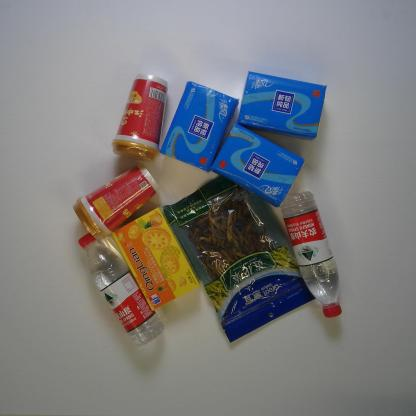Dessert: (112, 204, 200, 315)
Dried Food: (164, 174, 318, 346)
Drink: (78, 230, 166, 348), (278, 189, 344, 320)
Instant Drink: (69, 163, 160, 241), (111, 72, 169, 163)
Tissue: (209, 122, 306, 210), (159, 80, 238, 173), (236, 70, 327, 142)
